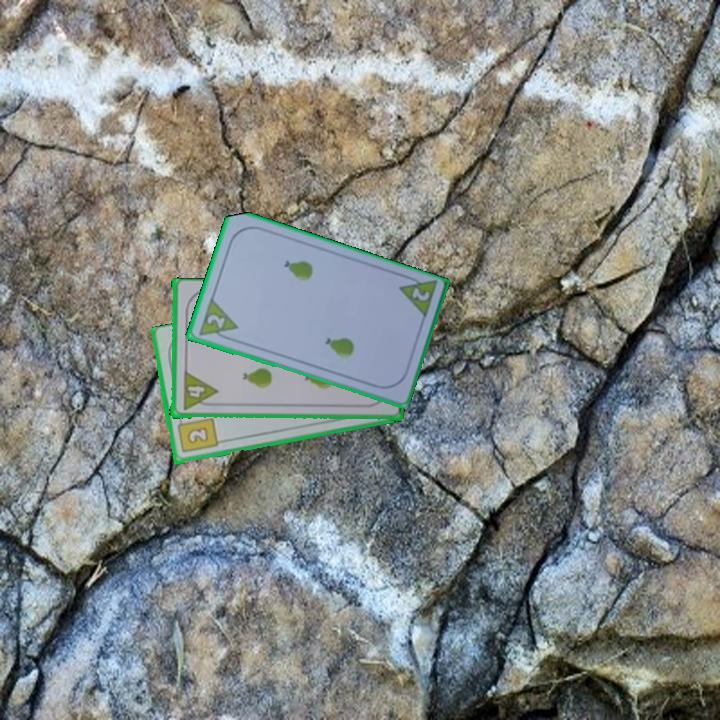2b: (173, 414, 220, 456)
2p: (195, 295, 240, 344), (408, 284, 433, 304)
4p: (183, 369, 219, 402)
